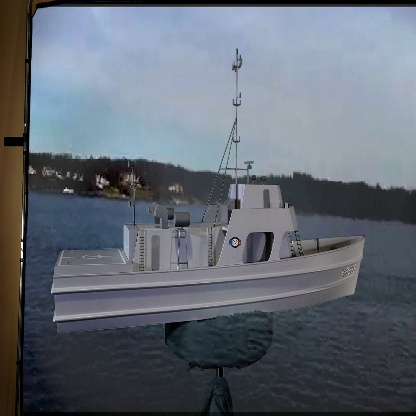YP689: (50, 49, 365, 336)
